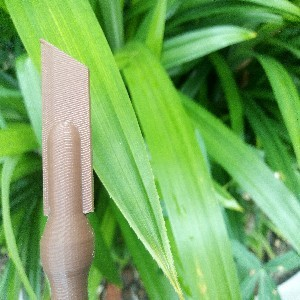cutter: (37, 37, 95, 300)
